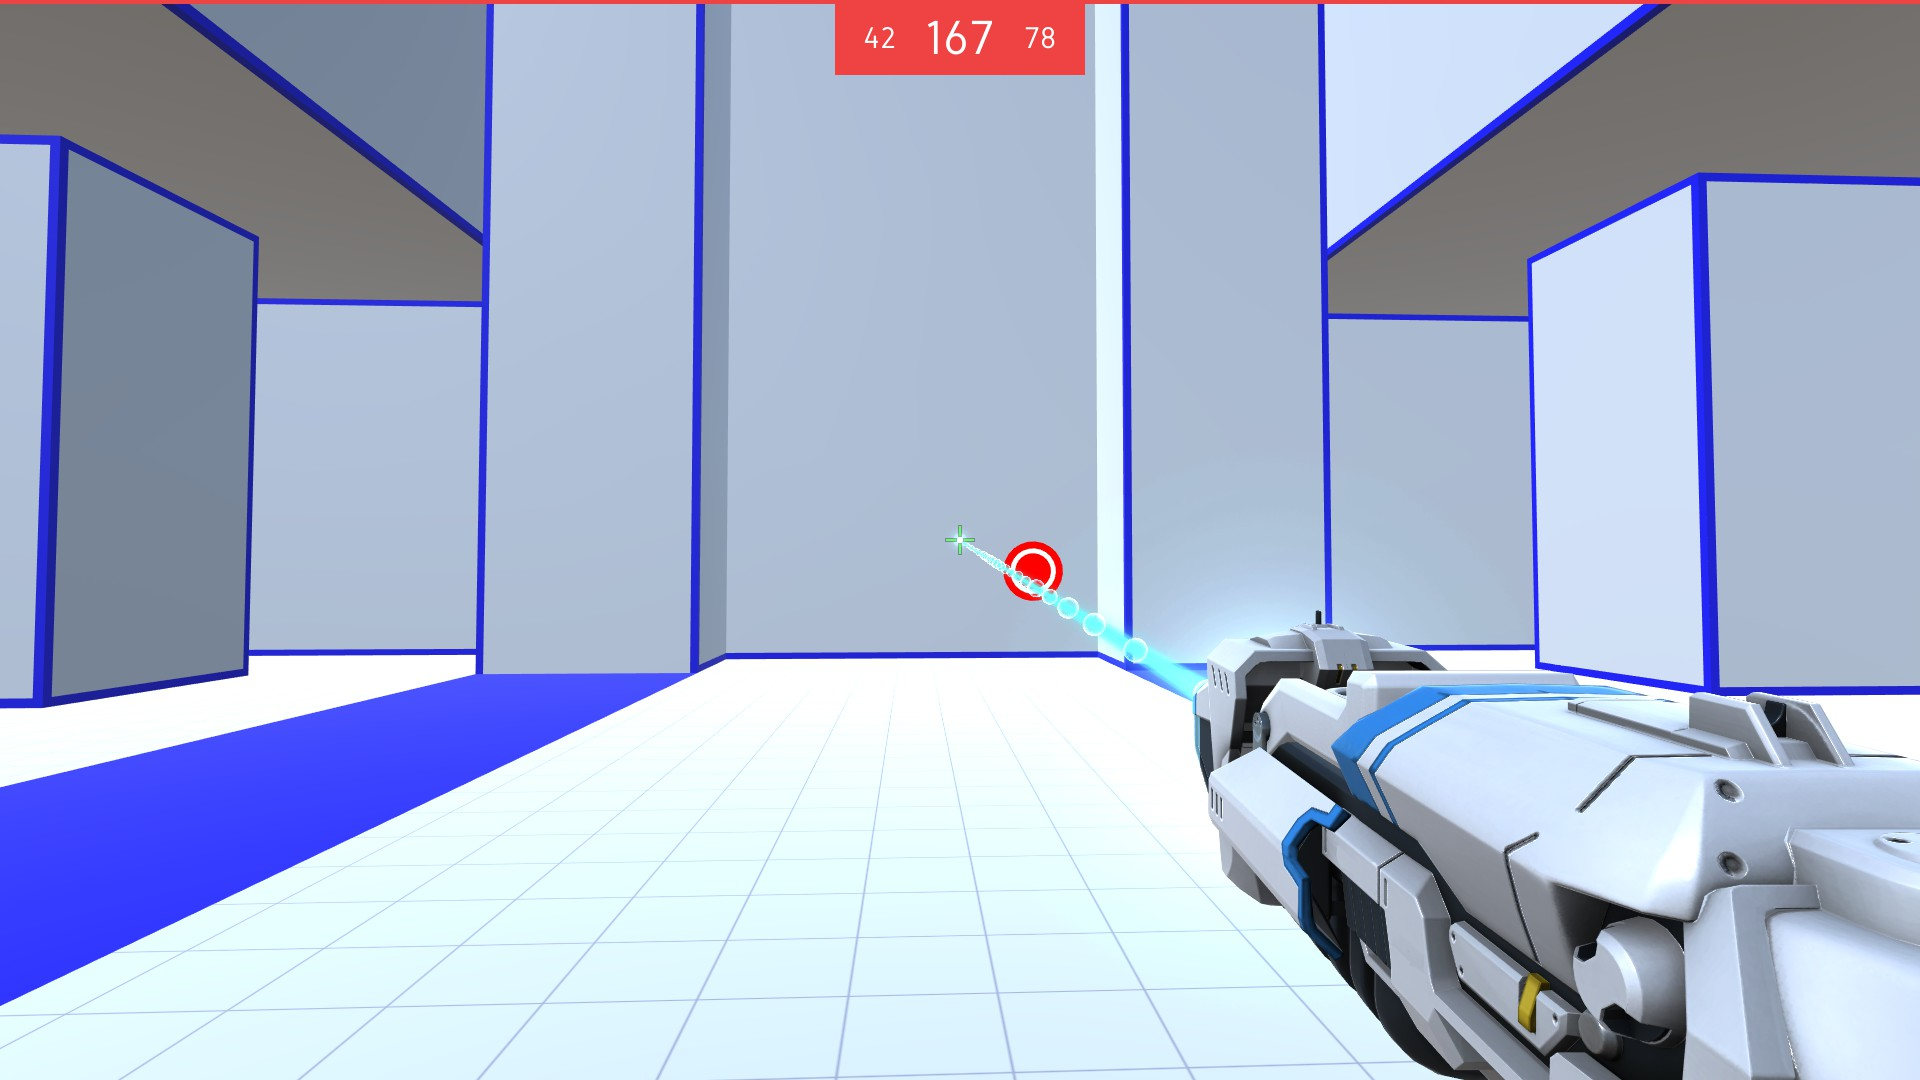target: (1005, 542, 1064, 603)
